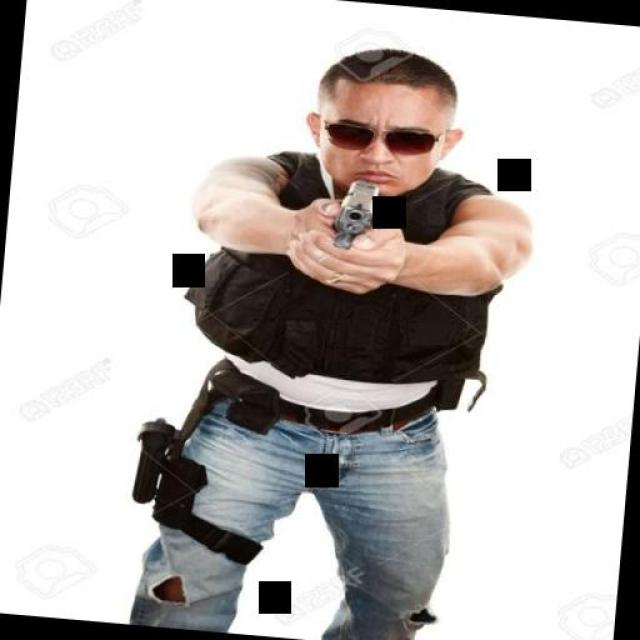gun: (321, 173, 389, 255)
